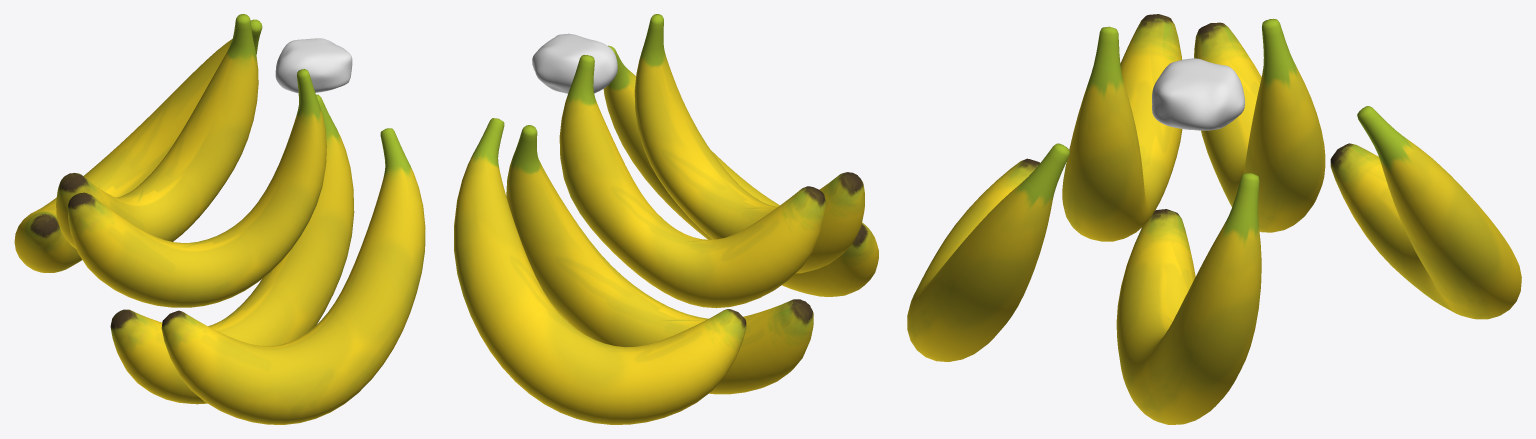
The model's file is pisang (banyak) meledak.fbx.
The picture shows the model from 3 angles, left to right: view 1: azimuth 30°, elevation 25°; view 2: azimuth 150°, elevation 25°; view 3: azimuth 270°, elevation 25°; orthographic projection. The views are drawn at different scales.
Visible parts, largest first — view 1: Torus.001, Torus.004, Torus, Torus.003, Torus.002, Icosphere; view 2: Torus.002, Torus.003, Torus, Torus.004, Torus.001, Icosphere; view 3: Torus, Torus.002, Torus.004, Torus.001, Torus.003, Icosphere.
Part boxes in pixels (x1,y1,x2,y2): Torus.001: [161, 128, 425, 424]; Torus.004: [67, 69, 326, 307]; Torus: [110, 94, 354, 404]; Torus.003: [56, 14, 258, 248]; Torus.002: [14, 19, 262, 272]; Icosphere: [275, 38, 352, 93]; Torus.002: [454, 118, 746, 424]; Torus.003: [559, 55, 825, 308]; Torus: [506, 125, 813, 394]; Torus.004: [634, 14, 864, 273]; Torus.001: [603, 45, 878, 296]; Icosphere: [532, 33, 617, 93]; Torus: [1116, 173, 1261, 424]; Torus.002: [1330, 106, 1521, 319]; Torus.004: [1062, 14, 1182, 241]; Torus.001: [907, 143, 1069, 361]; Torus.003: [1194, 18, 1325, 232]; Icosphere: [1152, 58, 1244, 130].
Size of the model in its own units: 257 by 267 by 349.
